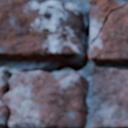brick: (0, 0, 84, 61), (89, 5, 127, 65), (91, 68, 127, 127), (89, 0, 122, 37)
broken_brick: (5, 72, 89, 127), (0, 67, 8, 91), (0, 102, 3, 117)
crack: (0, 1, 127, 127)
